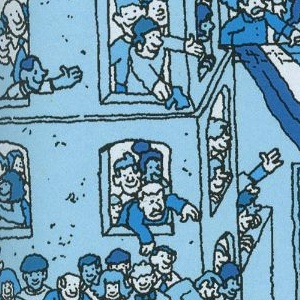Wizard Whitebeard: (112, 116, 188, 184)
